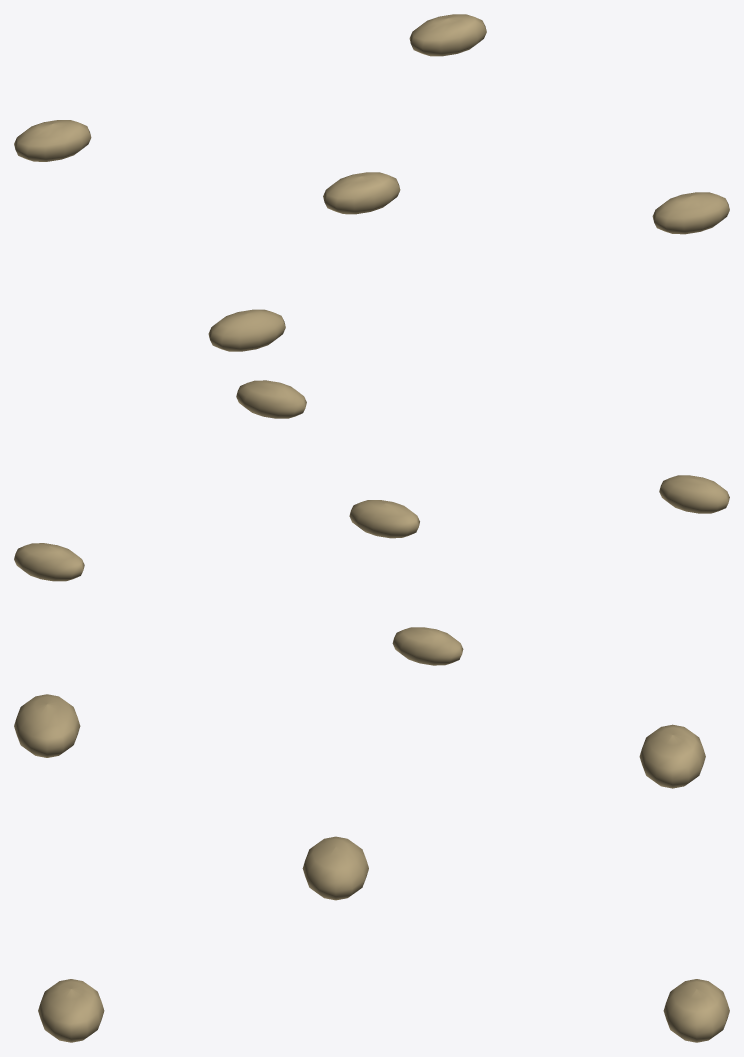
File: pumpkin_seed.glb
3 views of the same model, one above another, from view 1: azimuth 30°, elevation 25°; view 2: azimuth 150°, elevation 25°; view 3: azimuth 270°, elevation 25° (orthographic). The views are drawn at different scales.
Visible parts, largest first — view 1: seeds; view 2: seeds; view 3: seeds.
Part boxes in pixels (x1,y1,x2,y2): seeds: (14,14,729,351); seeds: (14,380,729,665); seeds: (14,694,729,1042).
Bounding box in the file's own units: 0.326 × 0.02 × 0.2976.
